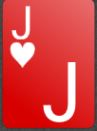Heart: (10, 42, 36, 69)
